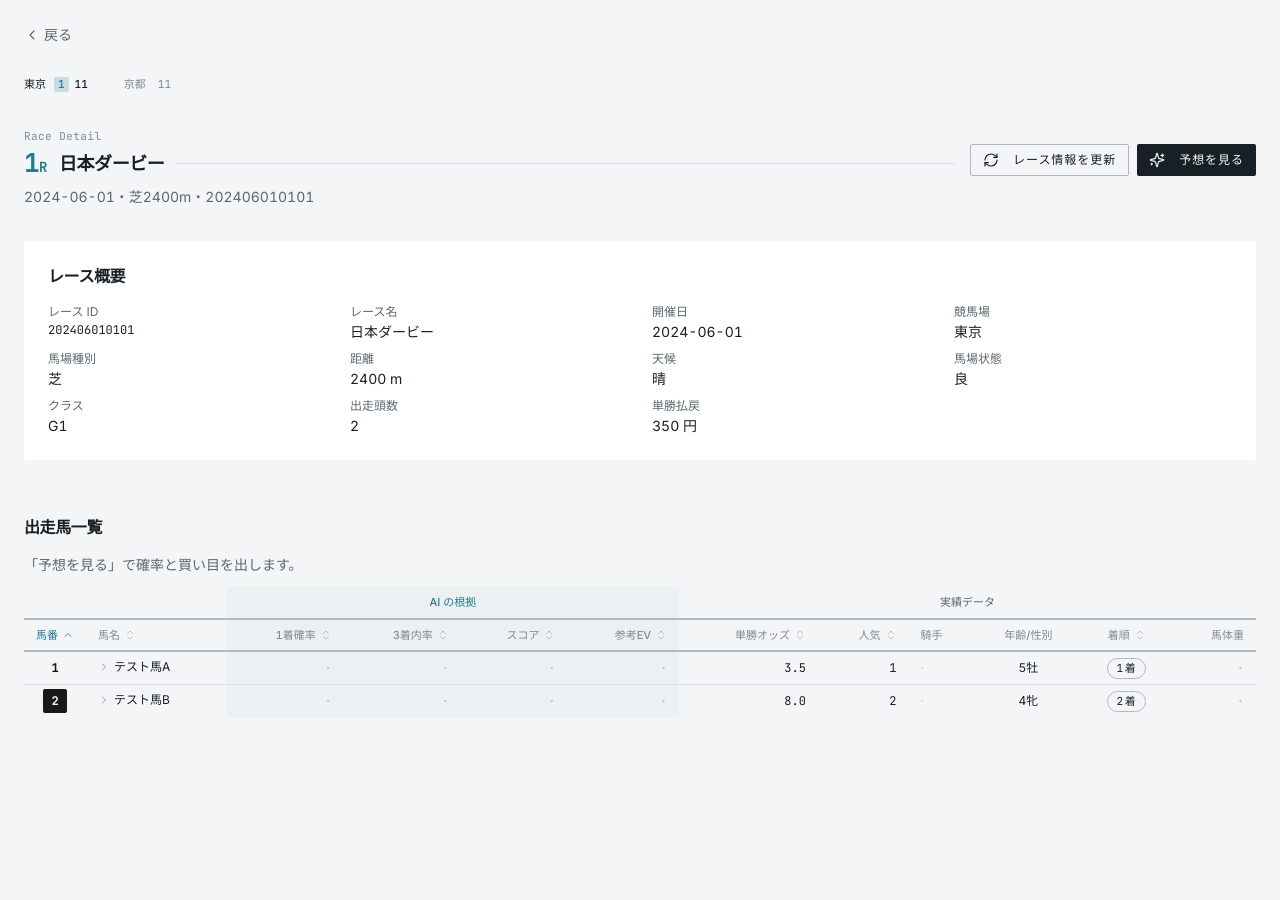
RaceDetail — 答え合わせ › 外れた買い目は払戻 0 として数える
Expected: the heading "出走馬一覧" is shown, top-left (24, 516), bottom-right (102, 538)
Click the button "予想を見る" at (1197, 160), box top-left (1137, 144), bottom-right (1256, 176)
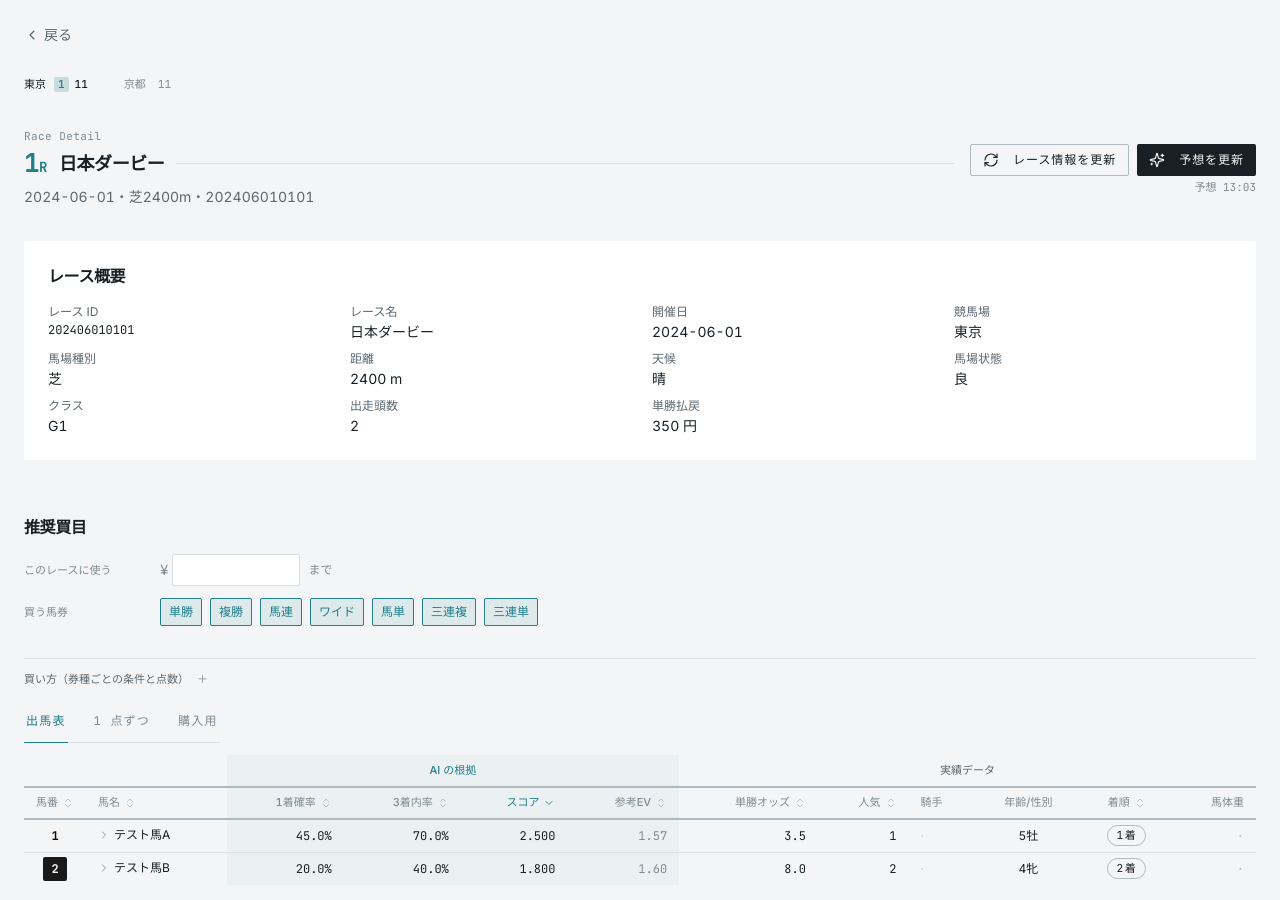
Expected: the heading "推奨買目" is shown, top-left (24, 516), bottom-right (86, 538)
